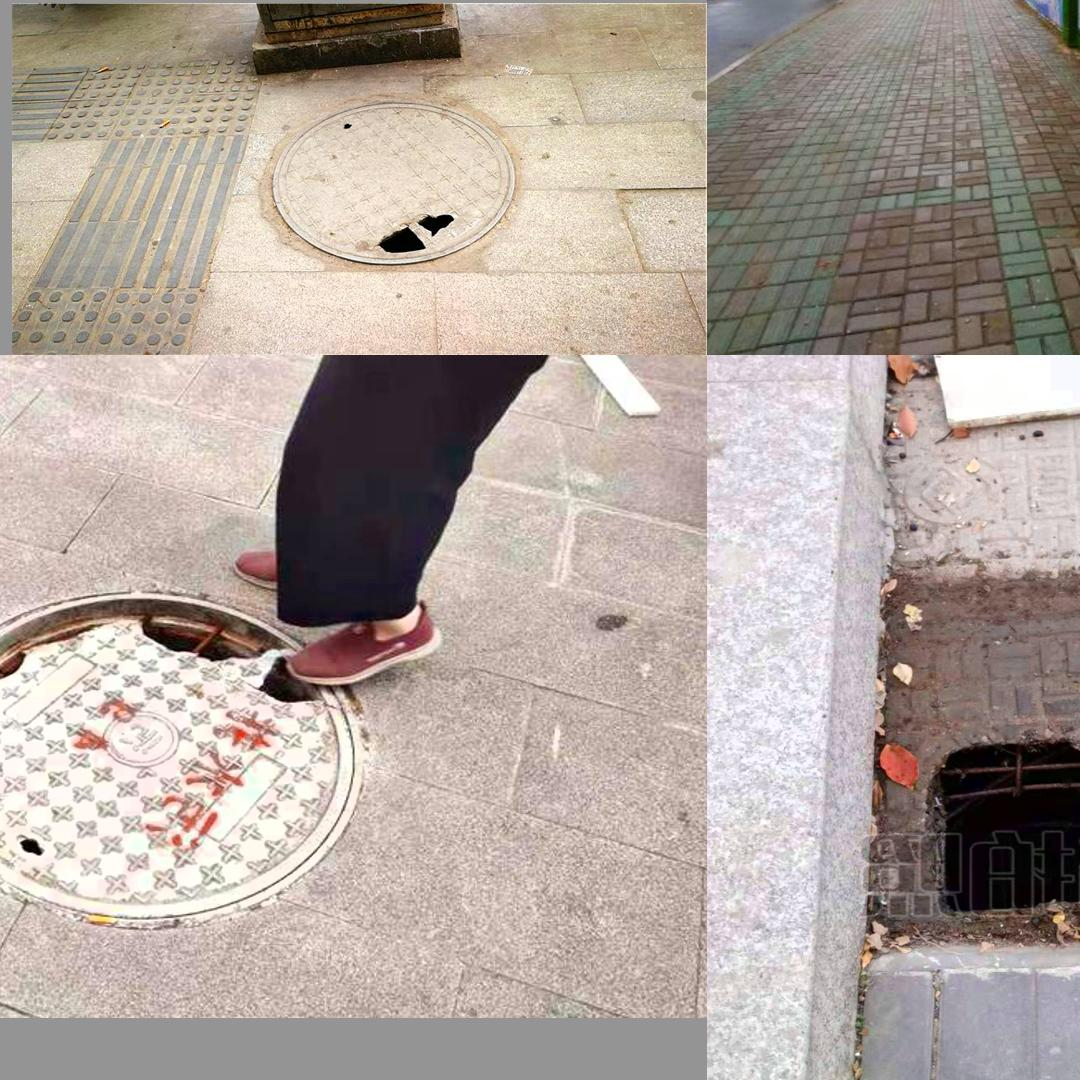broke: (0, 593, 382, 921), (822, 489, 1080, 954), (272, 98, 514, 264), (1069, 235, 1080, 355)
